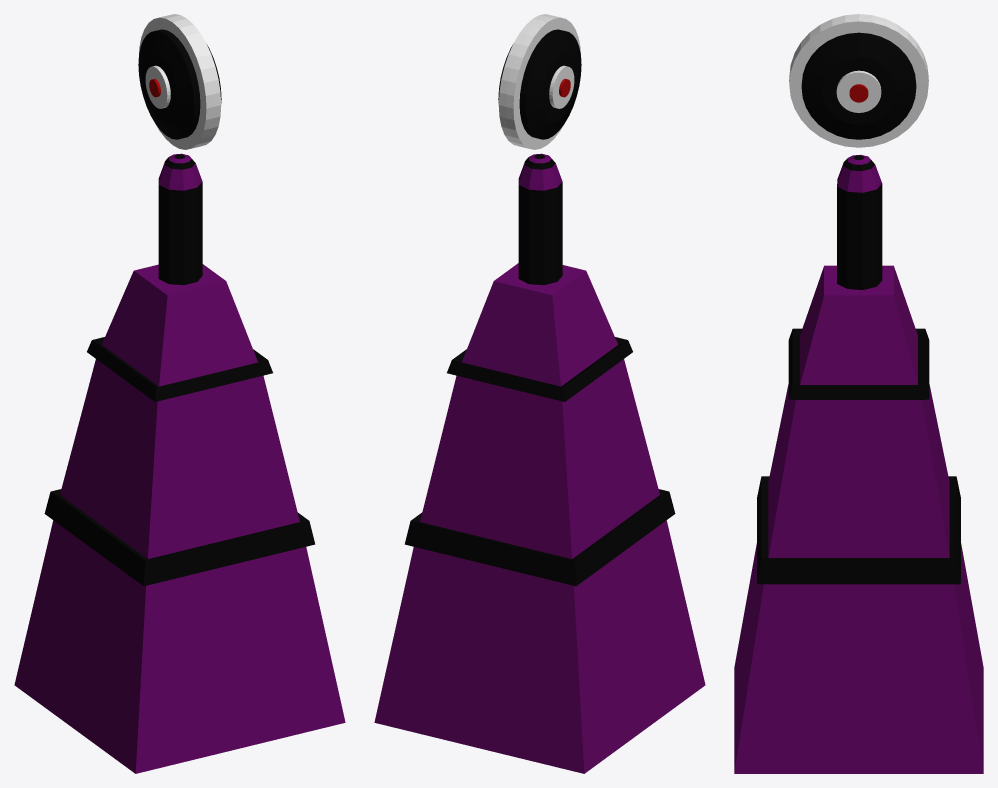
File: Hardcore Tower.fbx
The picture shows the model from 3 angles, left to right: view 1: azimuth 30°, elevation 25°; view 2: azimuth 150°, elevation 25°; view 3: azimuth 270°, elevation 25°; orthographic projection. The views are drawn at different scales.
Visible parts, largest first — view 1: Base, Eye; view 2: Base, Eye; view 3: Base, Eye.
Part boxes in pixels (x1,y1,x2,y2): Base: (14,153,345,773); Eye: (138,14,221,149); Base: (374,153,705,773); Eye: (498,14,581,149); Base: (734,154,983,773); Eye: (789,14,928,147).
Size of the model in its own units: 400 by 1244 by 400.
